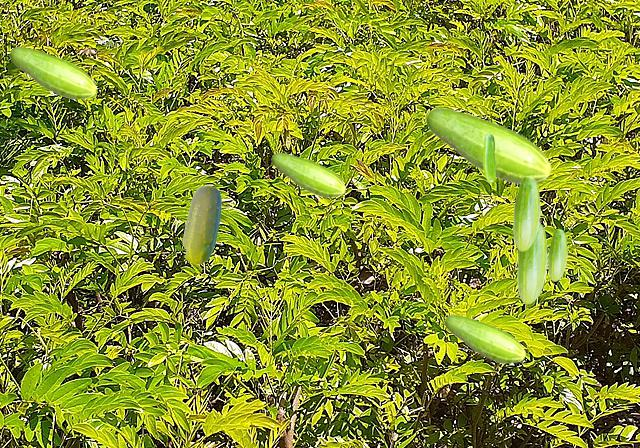cucumber: (425, 107, 551, 184), (9, 46, 96, 99), (444, 314, 525, 363), (271, 152, 345, 197), (182, 185, 220, 263), (517, 222, 546, 303), (513, 176, 539, 250), (548, 229, 566, 280), (483, 134, 494, 181)
